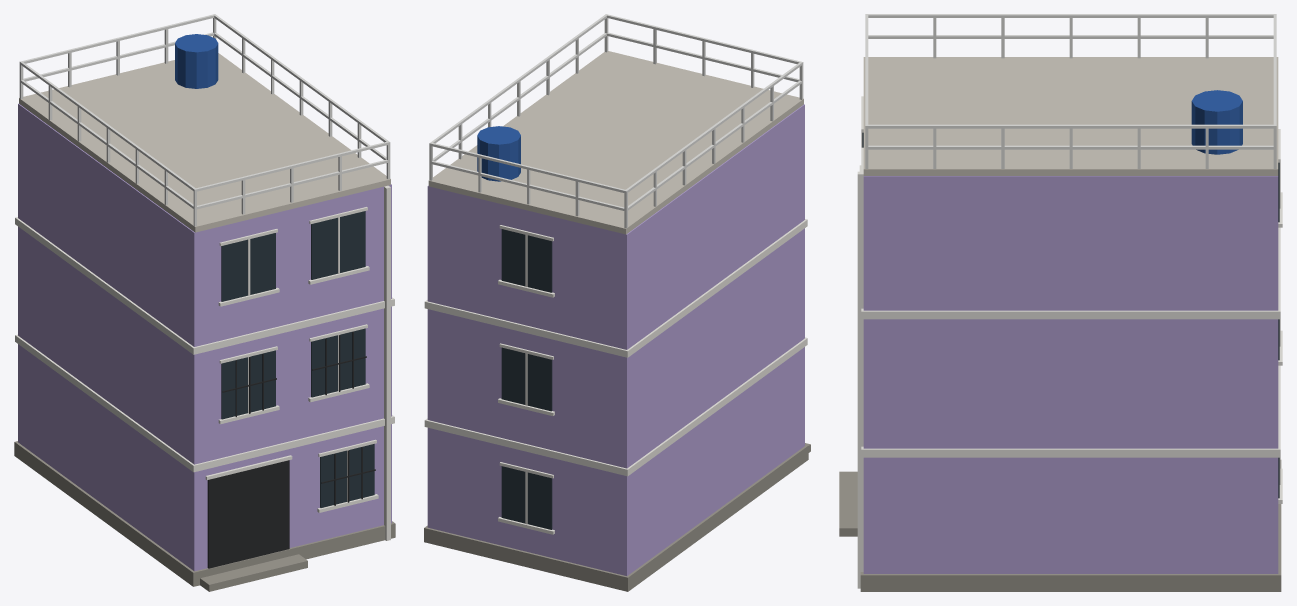
Rendered from BAY_F_ThreeStorey_O.glb.
3 views of the same model, side by side, from view 1: azimuth 30°, elevation 25°; view 2: azimuth 150°, elevation 25°; view 3: azimuth 270°, elevation 25° (orthographic). The views are drawn at different scales.
Visible parts, largest first — view 1: BAY_F_ThreeStorey_O; view 2: BAY_F_ThreeStorey_O; view 3: BAY_F_ThreeStorey_O.
Part boxes in pixels (x1,y1,x2,y2): BAY_F_ThreeStorey_O: (14, 14, 395, 591); BAY_F_ThreeStorey_O: (424, 14, 810, 591); BAY_F_ThreeStorey_O: (839, 14, 1282, 591).
Bounding box in the file's own units: 4.5 × 8.4 × 7.27.
Materials: 1 (1 with a texture image).
